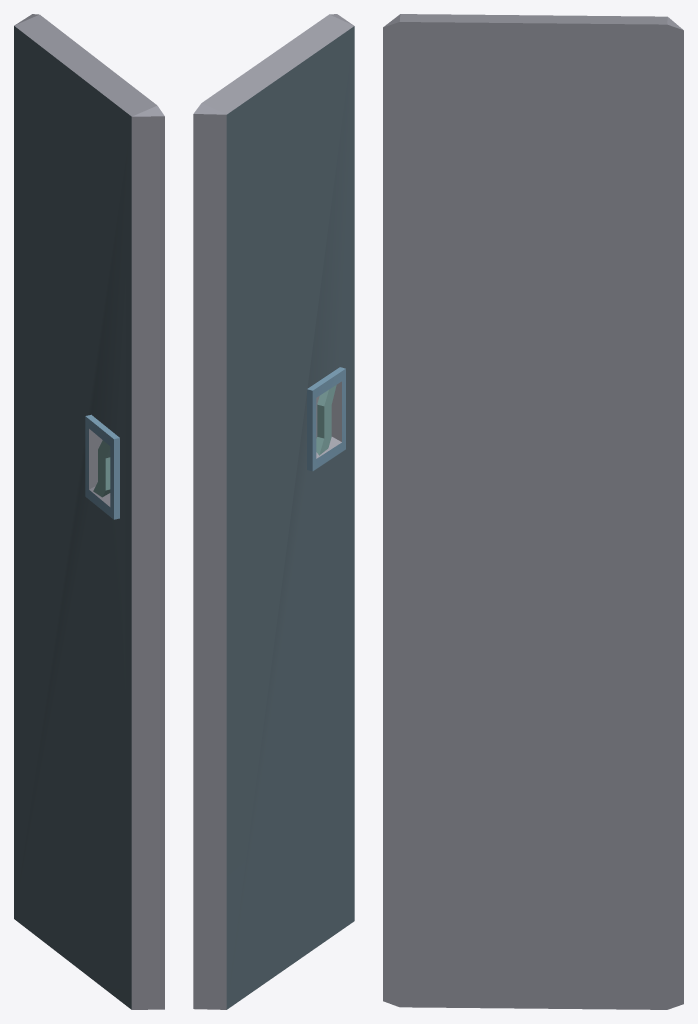
Rendered from Locker_Steel_Open_Door_Left.fbx.
The picture shows the model from 3 angles, left to right: view 1: azimuth 30°, elevation 25°; view 2: azimuth 150°, elevation 25°; view 3: azimuth 270°, elevation 25°; orthographic projection. The views are drawn at different scales.
Parts seen in each view (by area): view 1: pCube28; view 2: pCube28; view 3: pCube28.
Boxes of the visible parts, bbox=[...] form: pCube28: bbox=[14, 14, 164, 1009]; pCube28: bbox=[193, 14, 354, 1009]; pCube28: bbox=[383, 14, 683, 1009].
Size of the model in its own units: 8.6 by 210 by 58.23.
